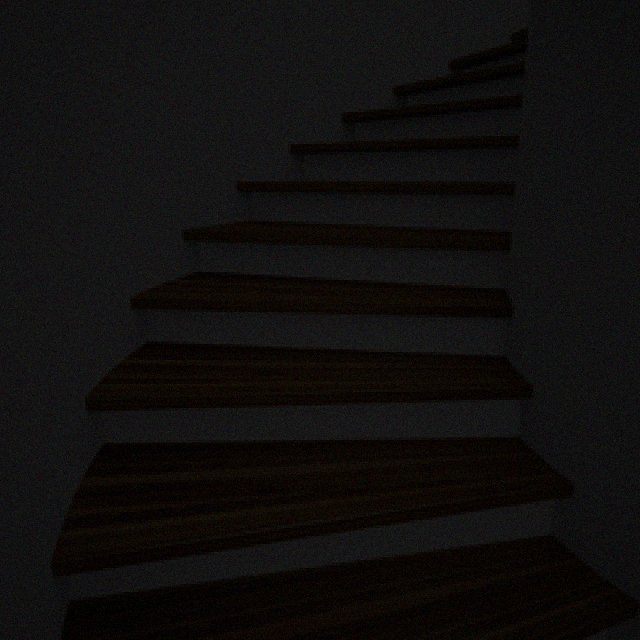stair: (53, 29, 635, 637)
